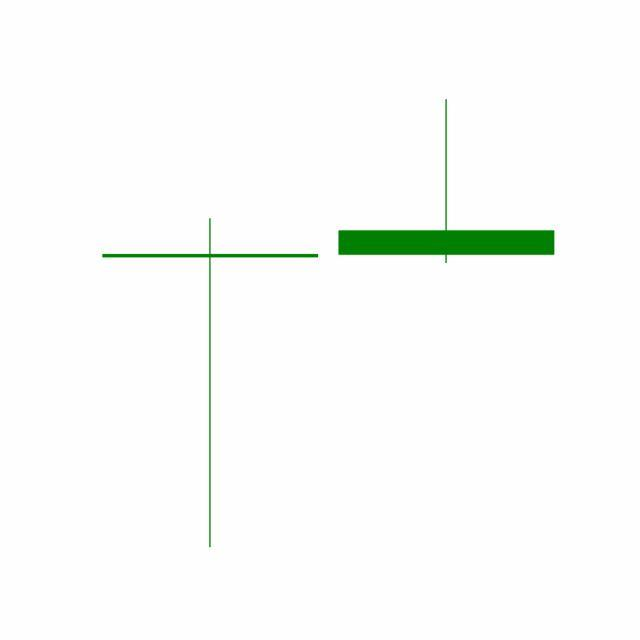Gravestone Doji: (328, 97, 566, 265)
